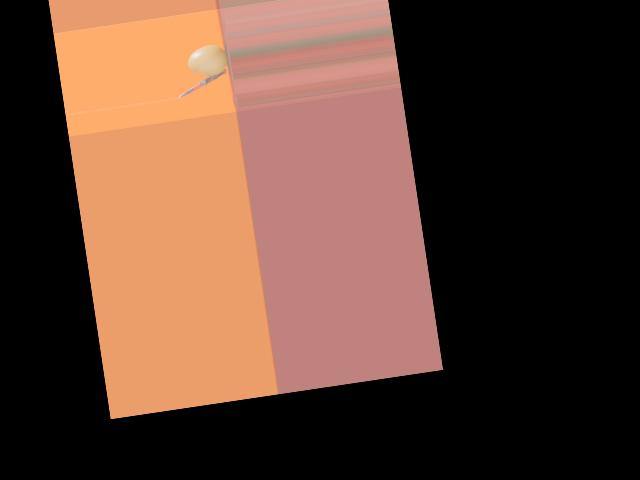egg: (187, 43, 229, 78)
